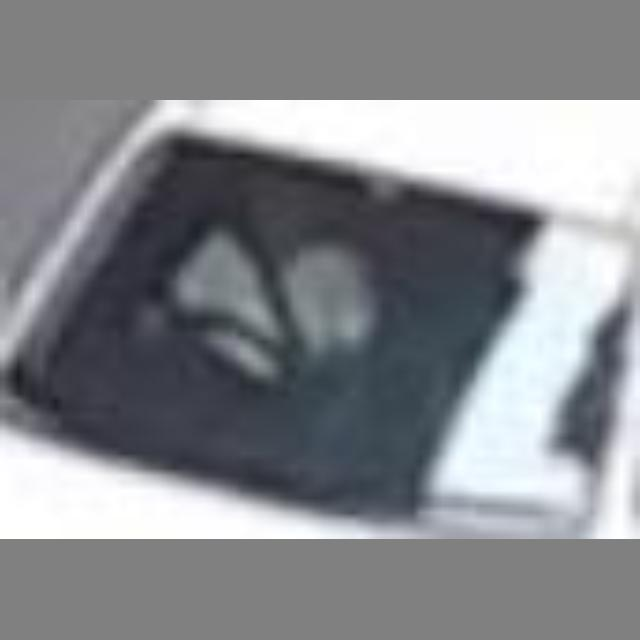pakai: (179, 182, 394, 427)
